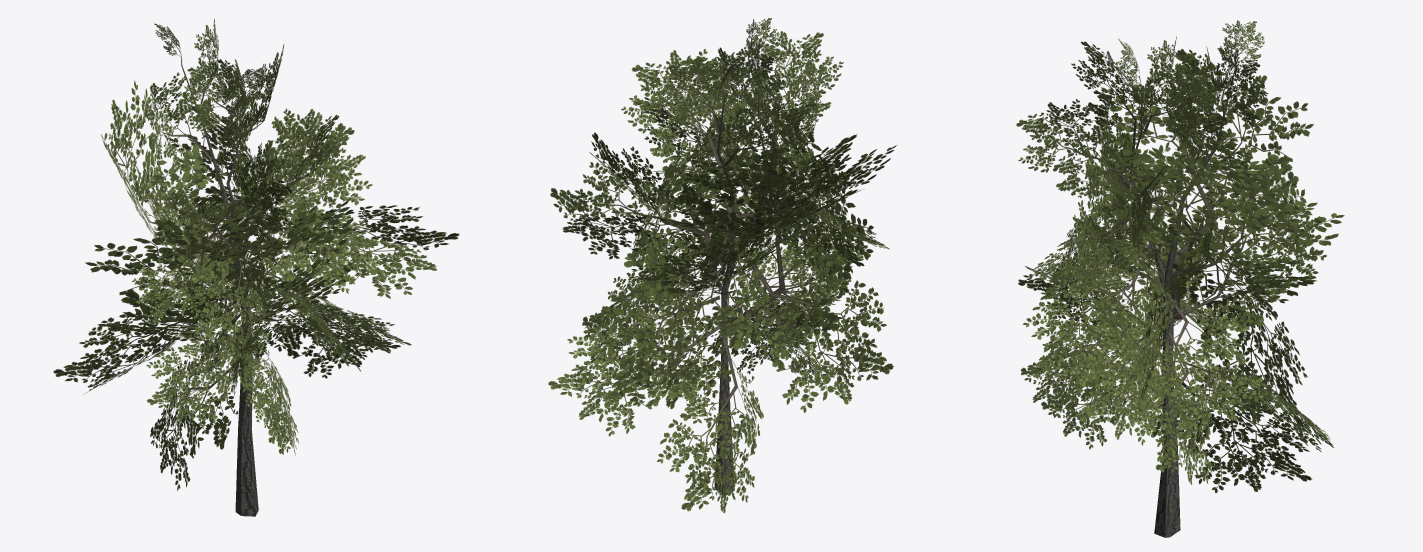
File: tree_2.gltf
3 renders of one model, left to right at view 1: azimuth 30°, elevation 25°; view 2: azimuth 150°, elevation 25°; view 3: azimuth 270°, elevation 25°, orthographic. The views are drawn at different scales.
Visible parts, largest first — view 1: Object_75, Object_74; view 2: Object_75, Object_74; view 3: Object_75, Object_74.
Part boxes in pixels (box(x1,y1,x2,y2)): Object_75: box(53, 19, 459, 490); Object_74: box(181, 65, 258, 516); Object_75: box(548, 18, 896, 513); Object_74: box(714, 72, 775, 494); Object_75: box(1016, 20, 1344, 492); Object_74: box(1130, 69, 1234, 537).
Bounding box in the file's own units: 7.75 × 8.85 × 6.61.
Materials: 2 (2 with a texture image).
